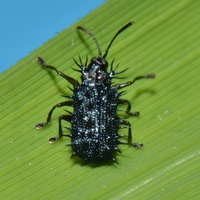insect: (36, 21, 154, 161)
